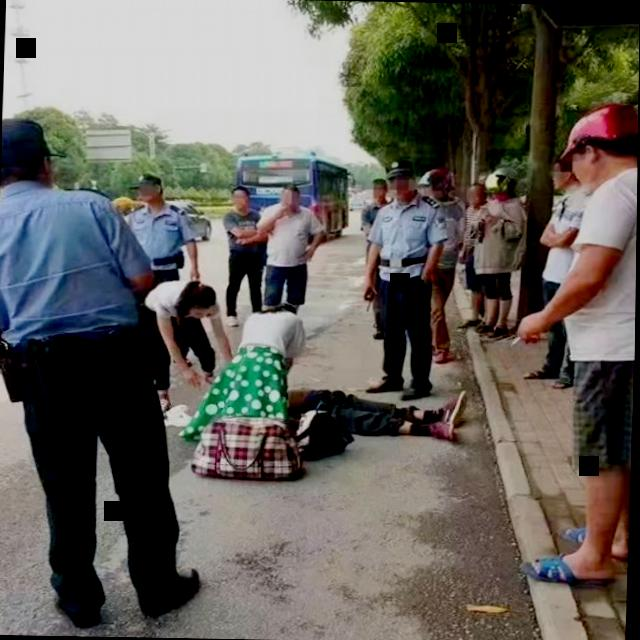Fall-Detected: (195, 365, 486, 466)
